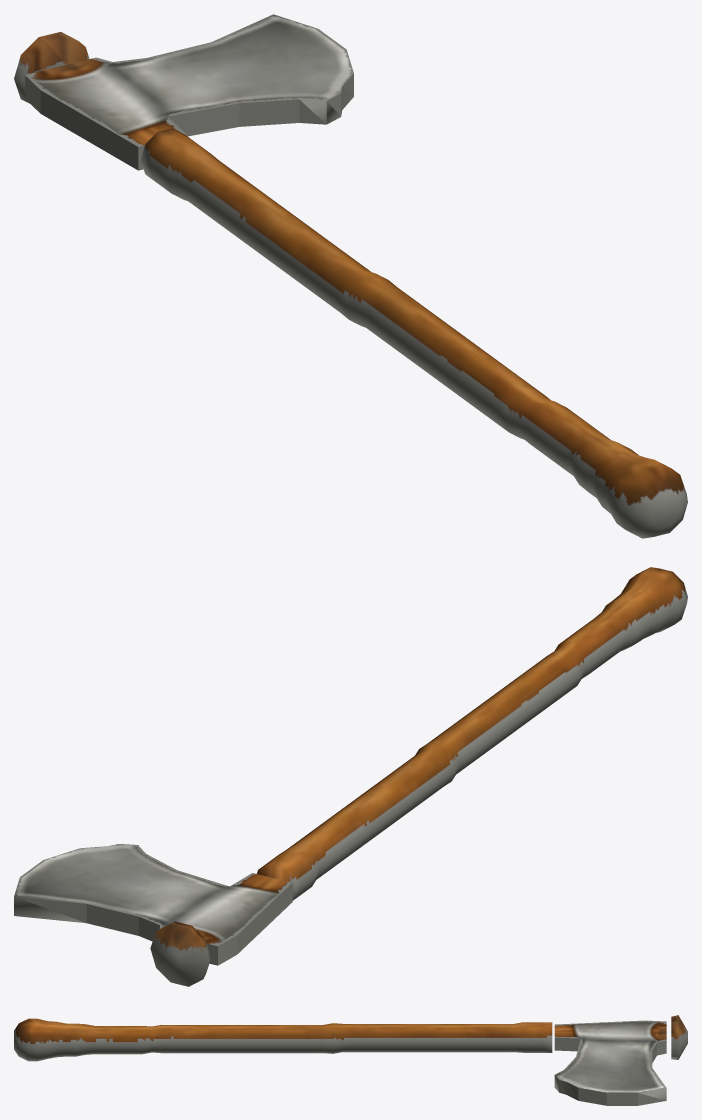
File: item_mm9_10036.glb
The picture shows the model from 3 angles, top to bottom: view 1: azimuth 30°, elevation 25°; view 2: azimuth 150°, elevation 25°; view 3: azimuth 270°, elevation 25°; orthographic projection. The views are drawn at different scales.
Parts seen in each view (by area): view 1: d10036; view 2: d10036; view 3: d10036.
Boxes of the visible parts, left/top/right/bottom form: d10036: left=14, top=14, right=687, bottom=538; d10036: left=14, top=567, right=687, bottom=986; d10036: left=14, top=1015, right=687, bottom=1105.
Size of the model in its own units: 32.51 by 8.16 by 128.
1 material, 1 textured.
